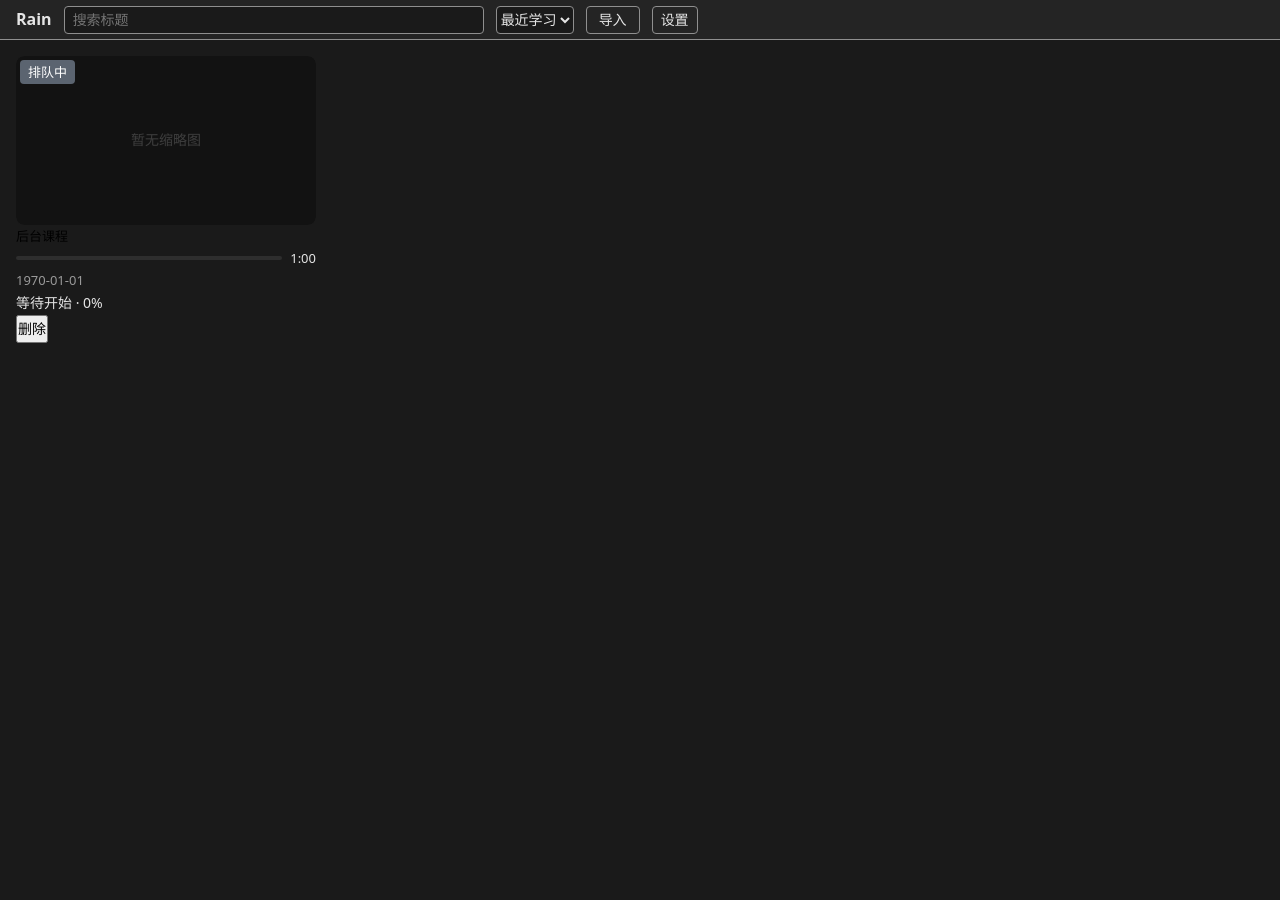
Test case: AC-AR-05 application import lifetime › finishes the original pipeline while the list is absent and returns one ready record with its saved content
Click the text "后台课程" at (42, 236), box 16,227 -> 68,245
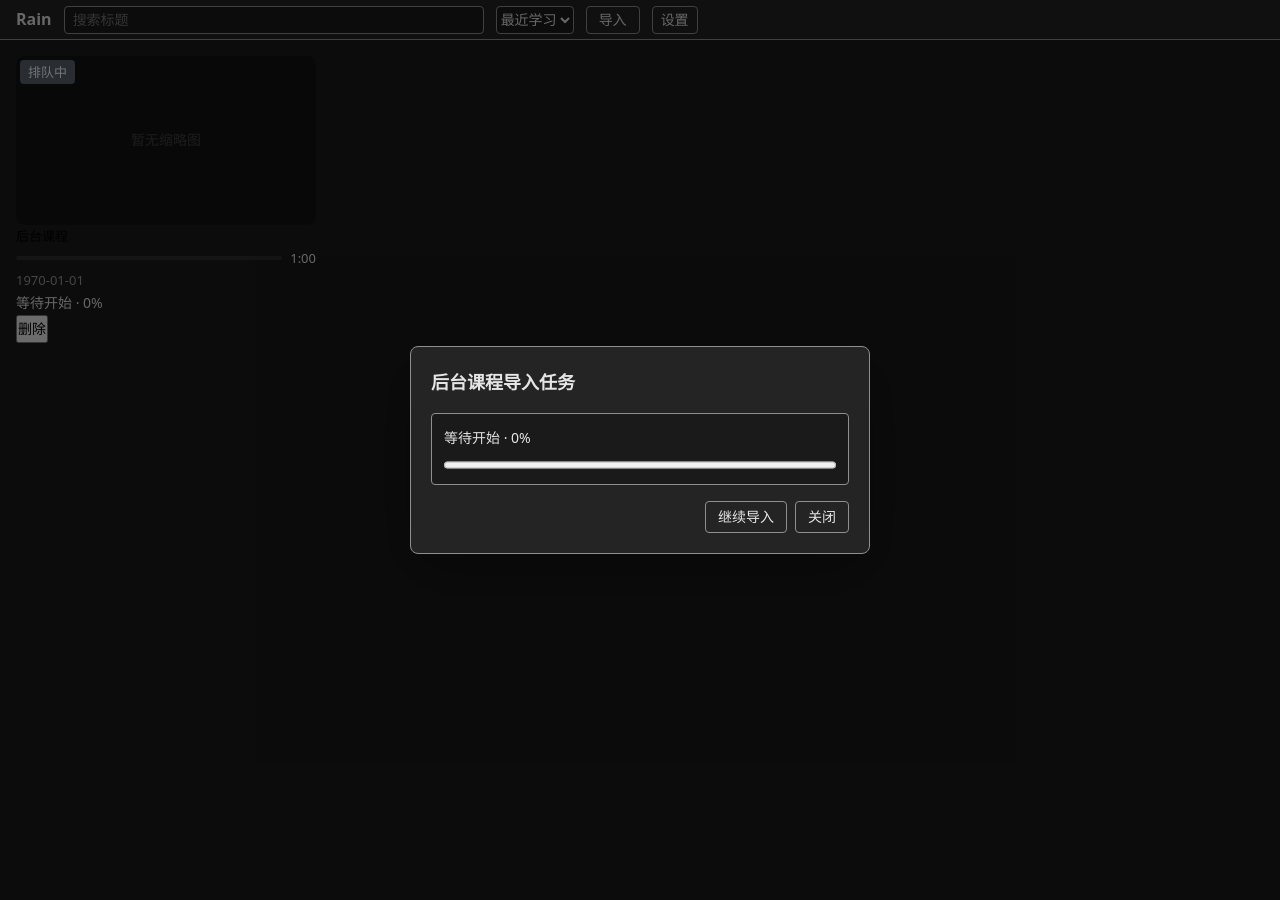
Click the button "继续导入" at (746, 517), box 705,501 -> 787,533
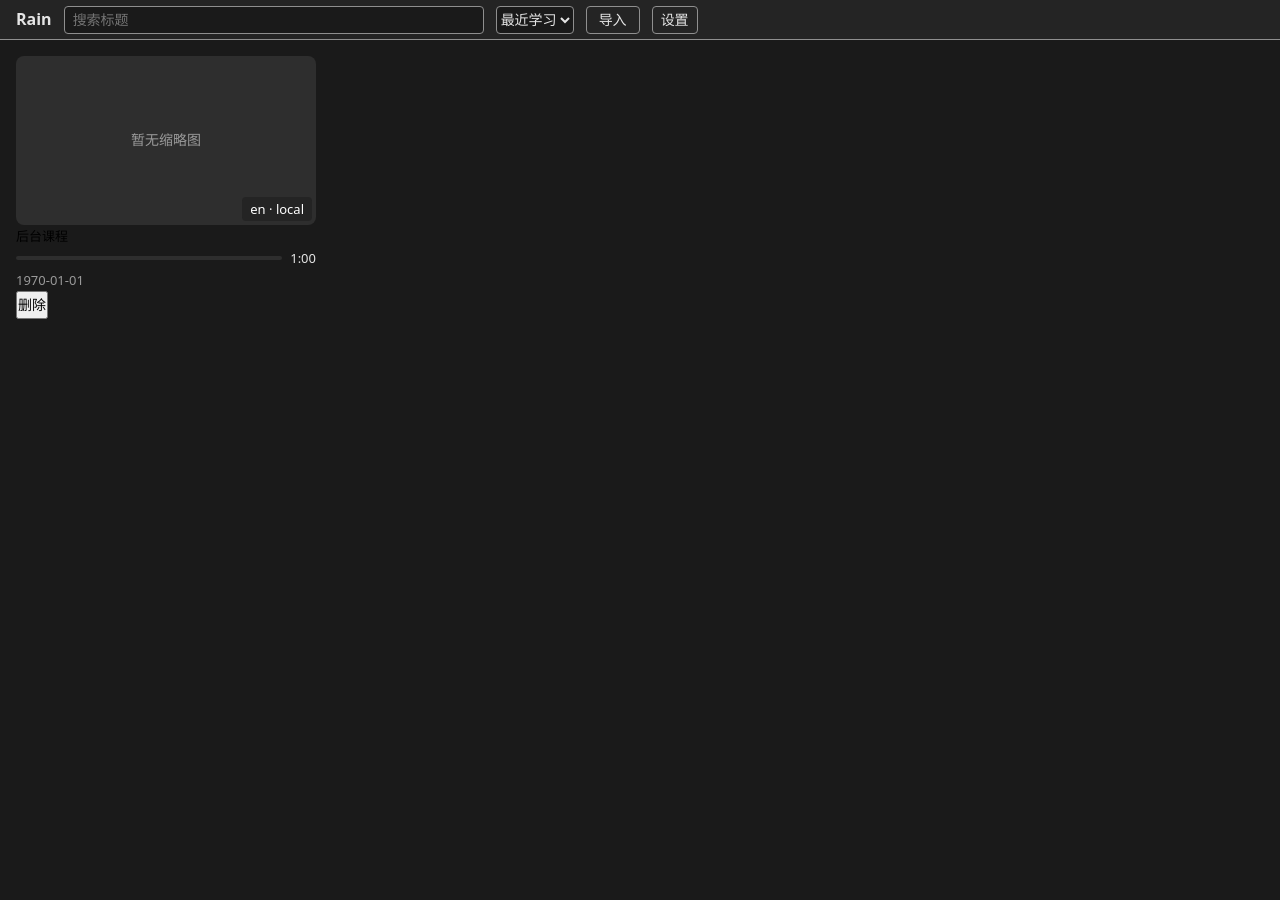
Check: the button with aria-label "打开视频：后台课程" is shown, box 16,56 -> 316,247
